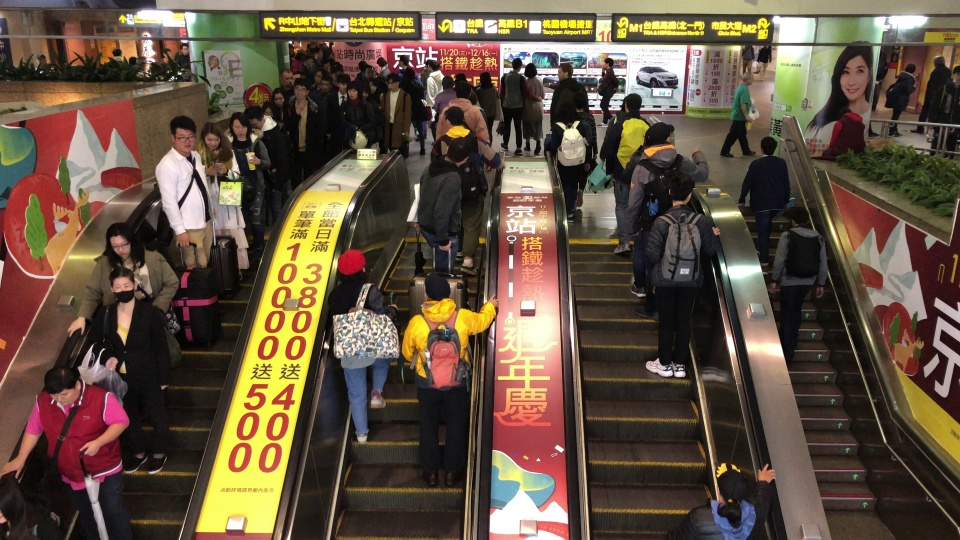person_head: (43, 365, 81, 404), (0, 476, 24, 524), (714, 467, 745, 504), (169, 114, 197, 154), (108, 267, 138, 304), (104, 222, 135, 256), (667, 172, 695, 205), (421, 274, 453, 302), (444, 137, 471, 166), (337, 249, 365, 274), (199, 121, 223, 148), (647, 121, 674, 141), (245, 104, 264, 130), (230, 112, 250, 136), (444, 106, 464, 128), (557, 87, 575, 110), (758, 135, 777, 155), (790, 207, 810, 226), (624, 92, 642, 113), (291, 78, 309, 97), (454, 80, 471, 99), (346, 80, 362, 99), (557, 62, 573, 81), (336, 74, 350, 94), (573, 90, 587, 109), (272, 87, 286, 105), (280, 68, 293, 87), (262, 101, 276, 117), (386, 73, 399, 90), (524, 62, 537, 77), (741, 71, 754, 86), (932, 54, 946, 67), (320, 77, 332, 92), (478, 71, 491, 84), (313, 68, 325, 82), (426, 60, 440, 72), (441, 75, 454, 87), (511, 57, 522, 71), (838, 105, 852, 116), (361, 84, 371, 99), (398, 54, 409, 67), (603, 56, 614, 69), (369, 78, 379, 92), (178, 42, 189, 54), (375, 56, 387, 67), (904, 62, 916, 73), (455, 73, 467, 83), (940, 74, 952, 84), (313, 46, 322, 59), (36, 53, 46, 64), (162, 48, 172, 58), (111, 48, 122, 57), (366, 67, 375, 78), (303, 55, 311, 64), (358, 61, 366, 70), (293, 40, 299, 47)
person_vbox: (0, 365, 132, 540), (400, 273, 500, 487), (92, 267, 173, 474), (644, 172, 721, 378), (626, 121, 709, 300), (325, 249, 398, 444), (65, 222, 181, 337), (430, 106, 506, 278), (769, 207, 828, 369), (154, 114, 216, 268), (665, 462, 777, 540), (196, 121, 250, 280), (412, 137, 471, 274), (603, 92, 651, 255), (737, 135, 792, 276), (223, 112, 271, 262), (548, 87, 590, 222), (244, 103, 285, 225), (496, 56, 542, 157), (435, 80, 489, 146), (286, 77, 319, 182), (908, 54, 951, 134), (809, 105, 866, 162), (719, 71, 756, 158), (572, 90, 598, 208), (263, 103, 293, 204), (549, 62, 589, 131), (926, 74, 958, 159), (380, 73, 411, 151), (884, 62, 915, 139), (396, 55, 423, 140), (521, 62, 545, 154), (339, 81, 375, 140), (326, 74, 350, 153), (476, 72, 499, 145), (595, 56, 618, 127), (425, 60, 444, 144), (314, 76, 339, 132), (271, 68, 293, 131), (432, 75, 456, 113), (755, 45, 772, 81), (739, 44, 755, 78), (177, 42, 190, 68), (376, 56, 390, 77)
